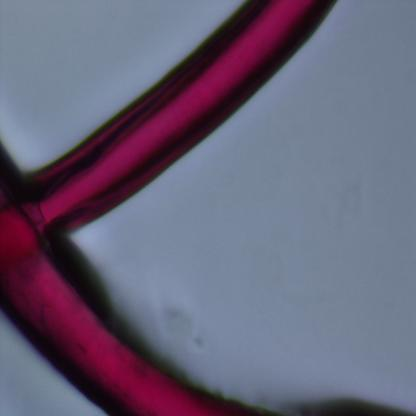Microfibre: (13, 0, 338, 243), (0, 189, 273, 415)
